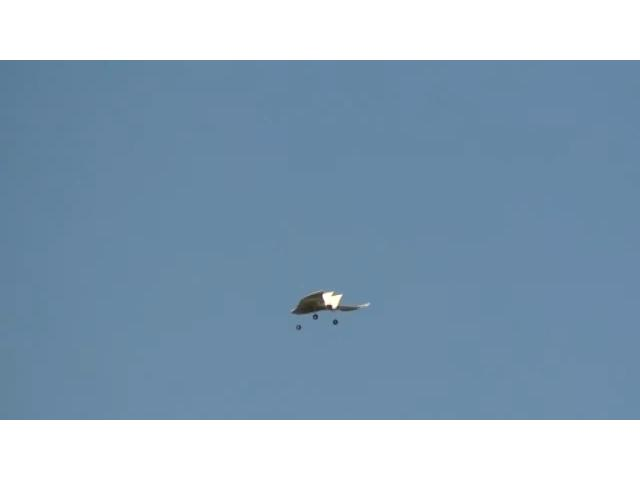Anti-Drone: (290, 290, 370, 312)
